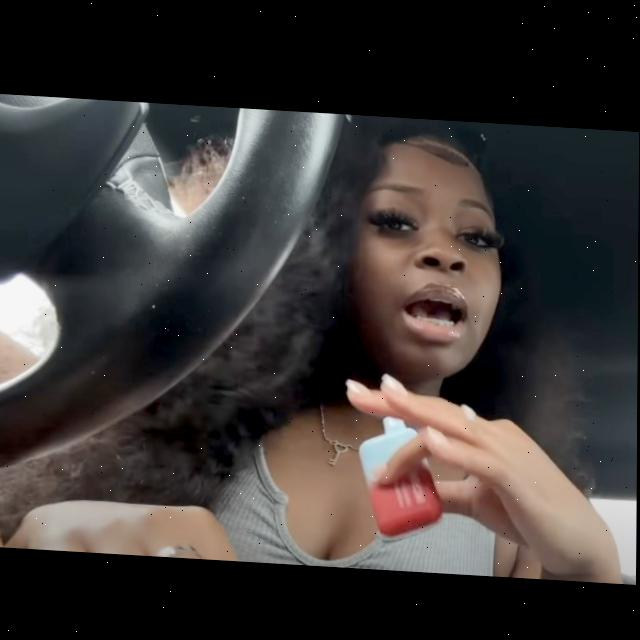vape: (359, 410, 444, 534)
